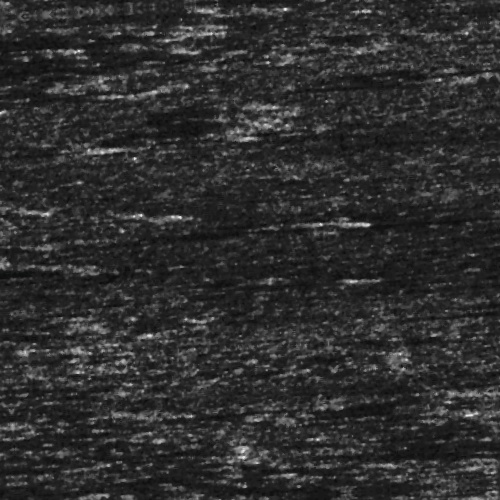object: (132, 19, 257, 34), (311, 224, 426, 237), (61, 129, 154, 144), (164, 0, 269, 8), (435, 87, 500, 98), (44, 32, 117, 39), (435, 423, 500, 430), (331, 283, 384, 288), (39, 248, 80, 253), (489, 411, 500, 418)
shadow: (144, 224, 368, 237), (0, 19, 194, 34), (0, 129, 107, 144), (335, 87, 477, 98), (63, 0, 216, 8), (323, 423, 477, 430), (200, 283, 357, 288), (0, 32, 80, 39), (459, 315, 500, 324), (450, 411, 500, 418), (0, 248, 60, 253), (0, 207, 145, 208)
